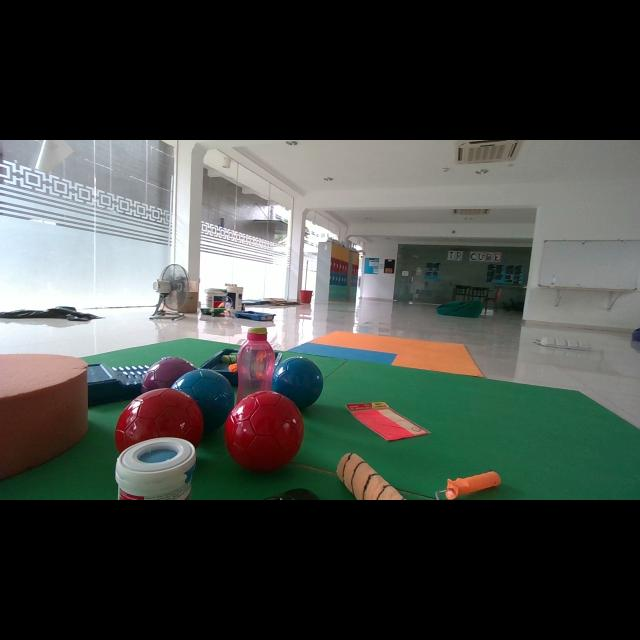B: (171, 369, 235, 432), (272, 356, 322, 409)
P: (141, 358, 196, 392)
R: (224, 391, 304, 472), (115, 388, 204, 452)
